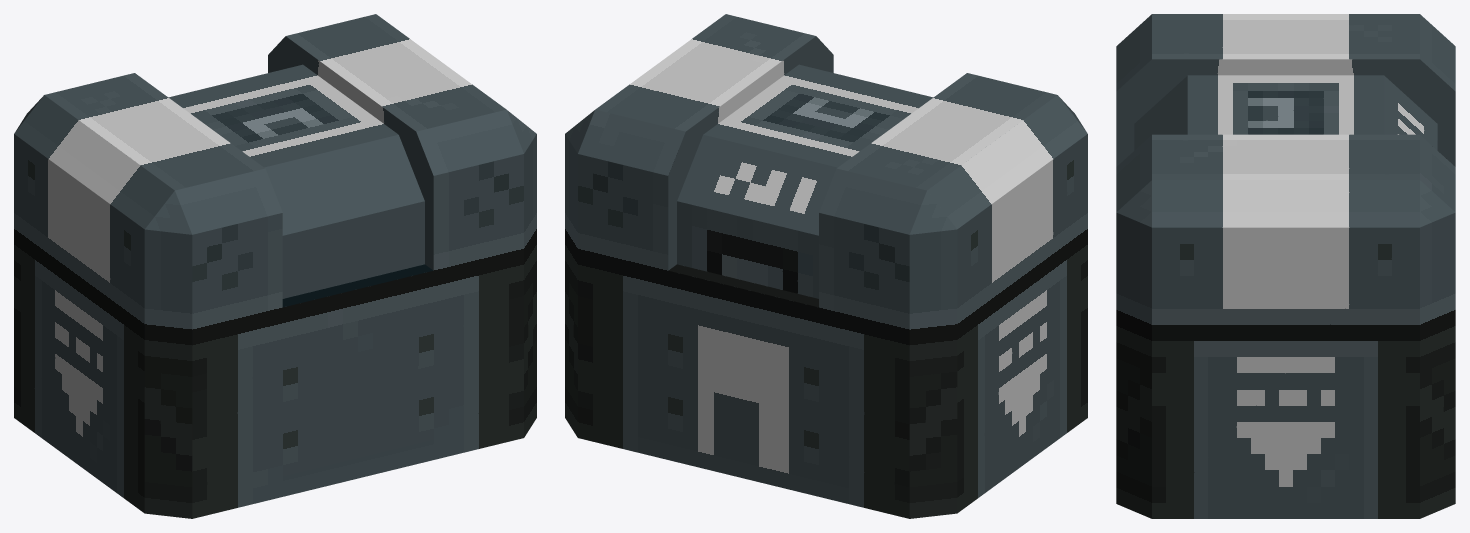
File: new_tritanium_crate_white.obj
3 views of the same model, side by side, from view 1: azimuth 30°, elevation 25°; view 2: azimuth 150°, elevation 25°; view 3: azimuth 270°, elevation 25° (orthographic). The views are drawn at different scales.
Visible parts, largest first — view 1: tritanium_crate_white; view 2: tritanium_crate_white; view 3: tritanium_crate_white.
Boxes of the visible parts, x1,y1,x2,y2 form: tritanium_crate_white: [14, 14, 536, 518]; tritanium_crate_white: [565, 14, 1087, 518]; tritanium_crate_white: [1116, 14, 1455, 518].
Bounding box in the file's own units: 0.9958 × 0.766 × 0.7278.
